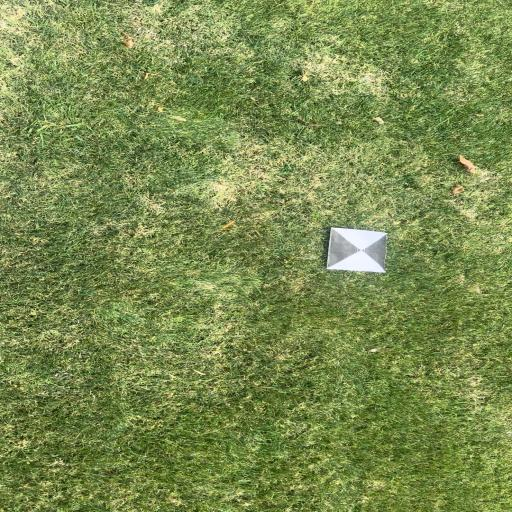target: (328, 227, 387, 272)
